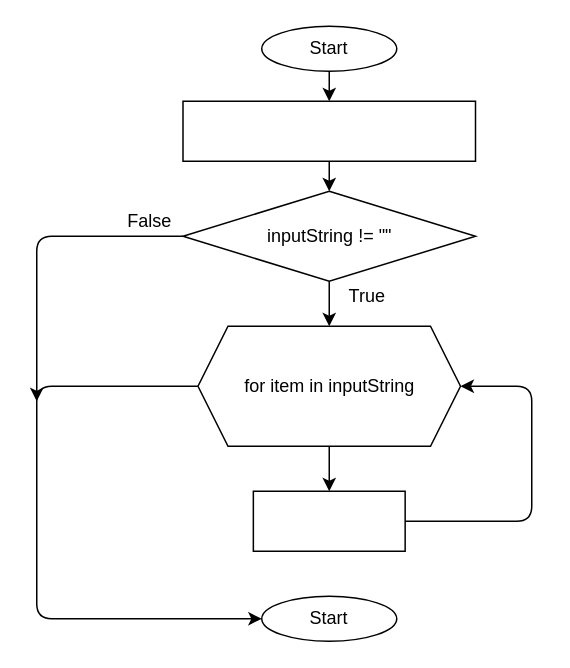
Image size: 570x668. Some labels were removed from this diagram. Each missing label, with the centre of its shape:
++count: the point at 328,520
inputString count = 0: the point at 329,130
